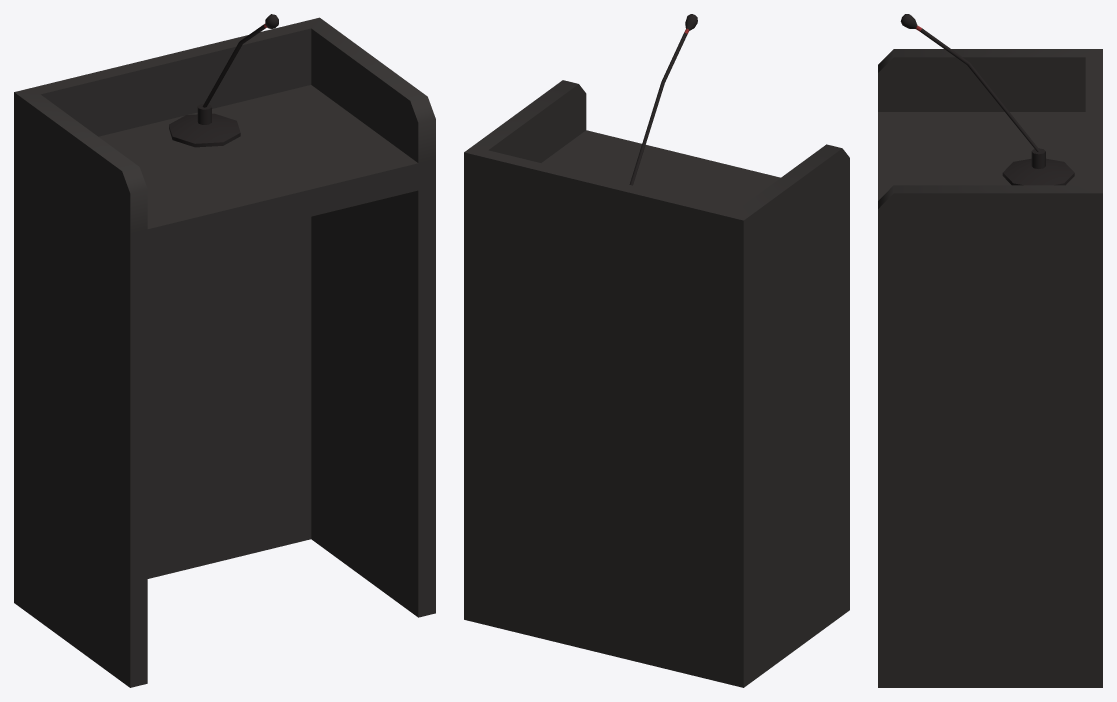
File: desk6.FBX
3 views of the same model, side by side, from view 1: azimuth 30°, elevation 25°; view 2: azimuth 150°, elevation 25°; view 3: azimuth 270°, elevation 25° (orthographic). The views are drawn at different scales.
Visible parts, largest first — view 1: desk6, mike; view 2: desk6, mike; view 3: desk6, mike.
Boxes of the visible parts, x1,y1,x2,y2 form: desk6: (14, 17, 435, 687); mike: (169, 14, 278, 147); desk6: (464, 80, 849, 687); mike: (629, 14, 697, 185); desk6: (878, 49, 1102, 687); mike: (900, 14, 1074, 185).
Bounding box in the file's own units: 82.29 × 160 × 54.14.
1 material, 1 textured.
